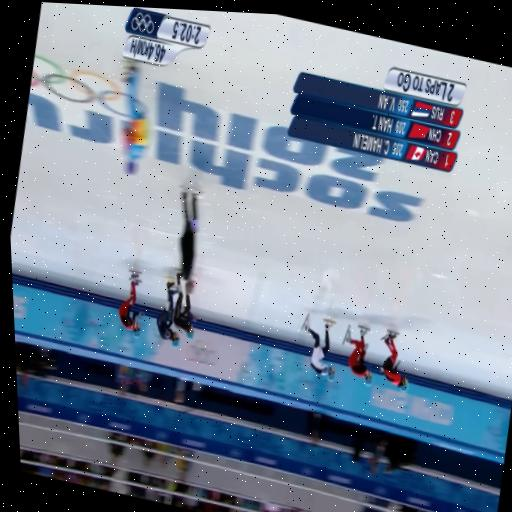Skater: (301, 313, 334, 380), (342, 325, 371, 385), (118, 271, 143, 337), (380, 330, 407, 391), (156, 278, 179, 347), (172, 270, 194, 338)
